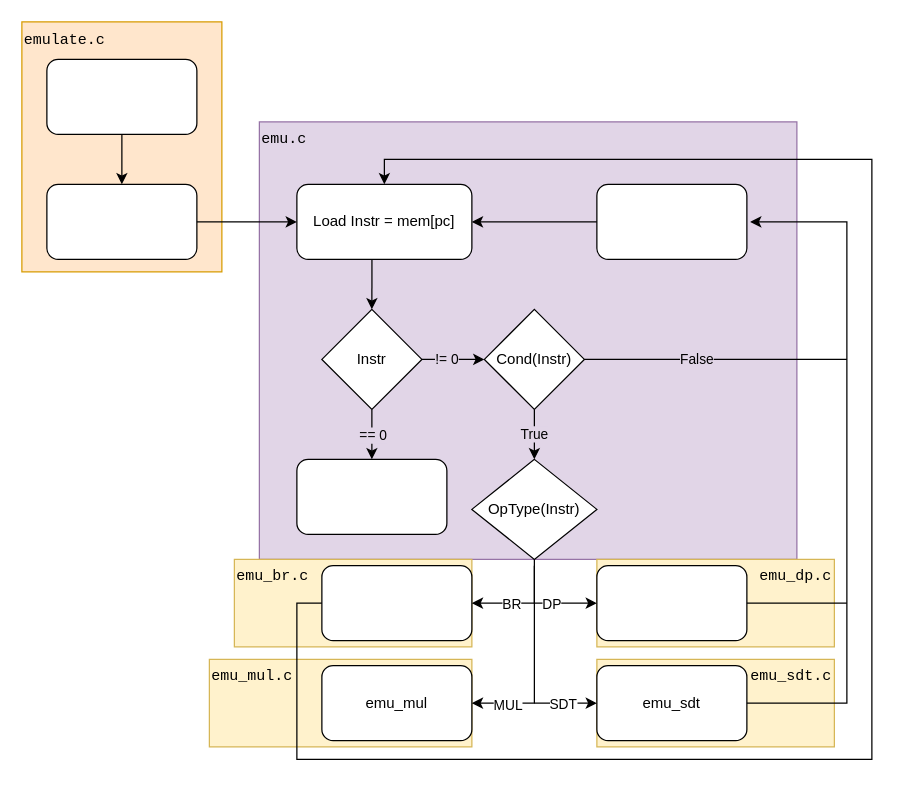
The diagram is 904 pixels wide and 791 high, and some of its shapes have lost their labels. Here are the shapes that lost their labels. From the top down, the centre of each, then its label:
At point (121, 96): "Read Binary".
At point (121, 221): "Create CPU".
At point (671, 221): "Increment PC".
At point (371, 496): "Print State".
At point (396, 602): "emu_br".
At point (671, 602): "emu_dp".
